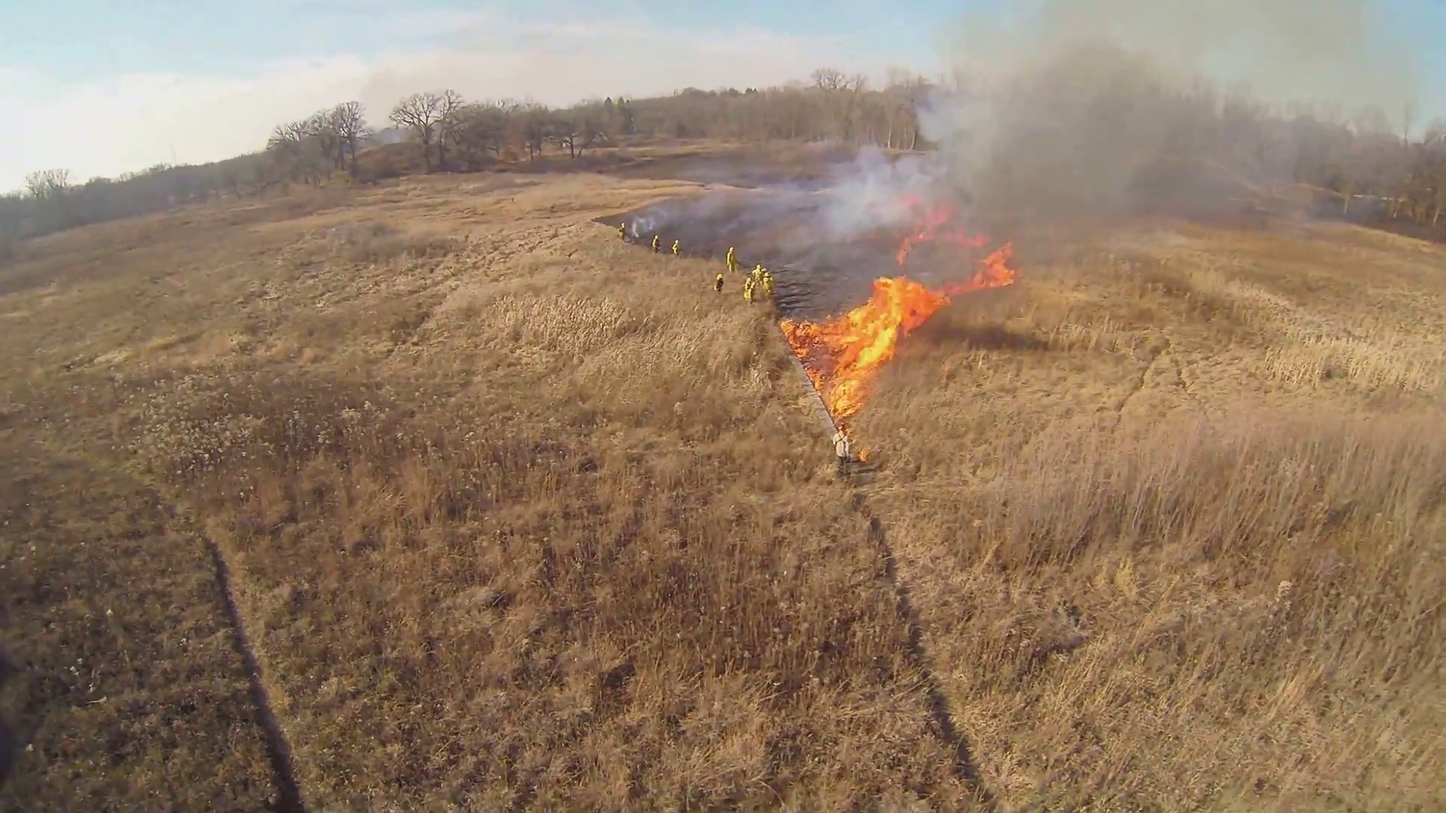forest_fire: (779, 242, 1014, 418)
